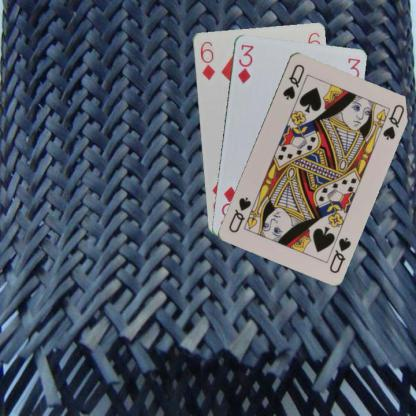3d: (234, 42, 254, 84)
6d: (197, 38, 216, 82)
Qs: (280, 61, 306, 101), (326, 234, 352, 274)
